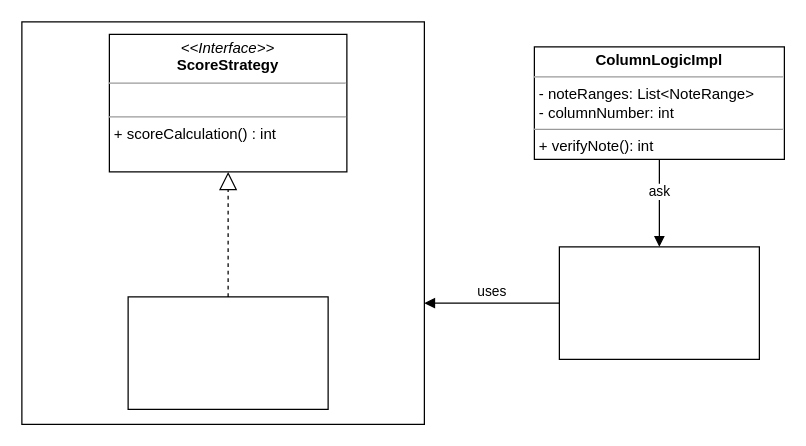
The diagram is 806 pixels wide and 446 high, and some of its shapes have lost their labels. The centre of each missing label's shape, as x and y in pixels:
"FullCalculator - combo: int + scoreCalculation(): int" belongs at point 227,352.
"ScoreContext - strategy: ScoreStrategy + executeStrategy(): int" belongs at point 658,302.
